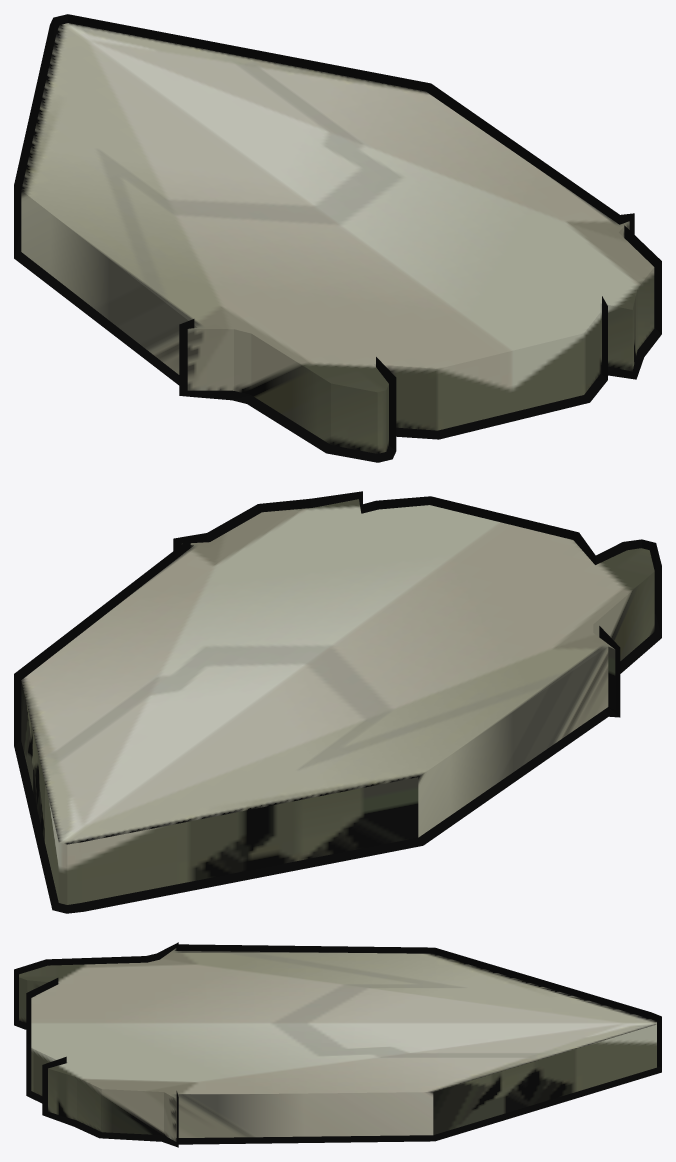
The model's file is Building_MechRelay_Things_Building_MechanoidRelay.glb.
3 renders of one model, top to bottom at view 1: azimuth 30°, elevation 25°; view 2: azimuth 150°, elevation 25°; view 3: azimuth 270°, elevation 25°, orthographic. The views are drawn at different scales.
Visible parts, largest first — view 1: Body, Outline; view 2: Body, Outline; view 3: Body, Outline.
Boxes of the visible parts, <box> form: Body: <box>21,23,654,453</box>; Outline: <box>14,14,661,462</box>; Body: <box>21,499,654,904</box>; Outline: <box>14,491,661,913</box>; Body: <box>19,948,656,1141</box>; Outline: <box>14,942,661,1147</box>.
Bounding box in the file's own units: 1.24 × 0.2051 × 2.18.
2 materials, 1 textured.
